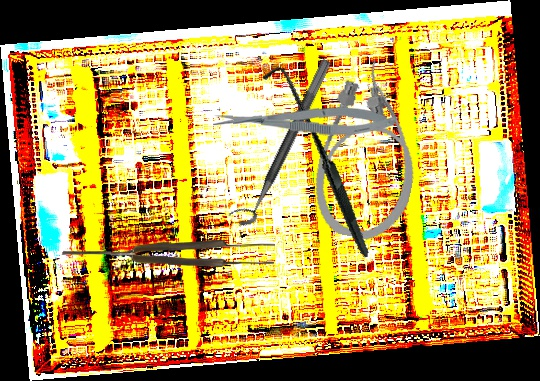Cannula: (305, 53, 436, 247)
Fixation Ring: (226, 51, 333, 232)
Hook Surgical: (222, 63, 412, 259)
Micro Scissor: (212, 101, 397, 139)
Tissue Forceps: (62, 237, 275, 269)
